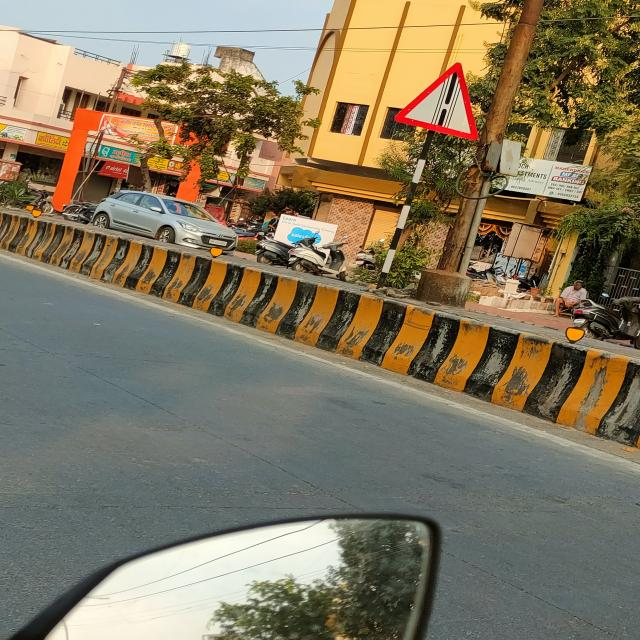ferry: (394, 63, 479, 139)
